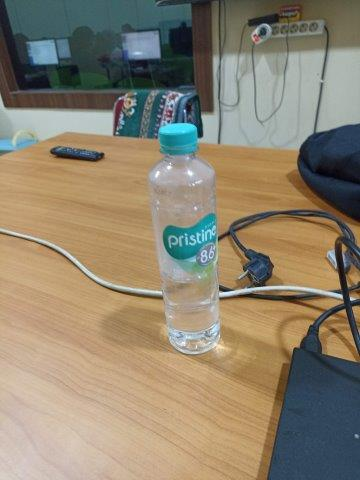botolplastik: (148, 123, 221, 356)
